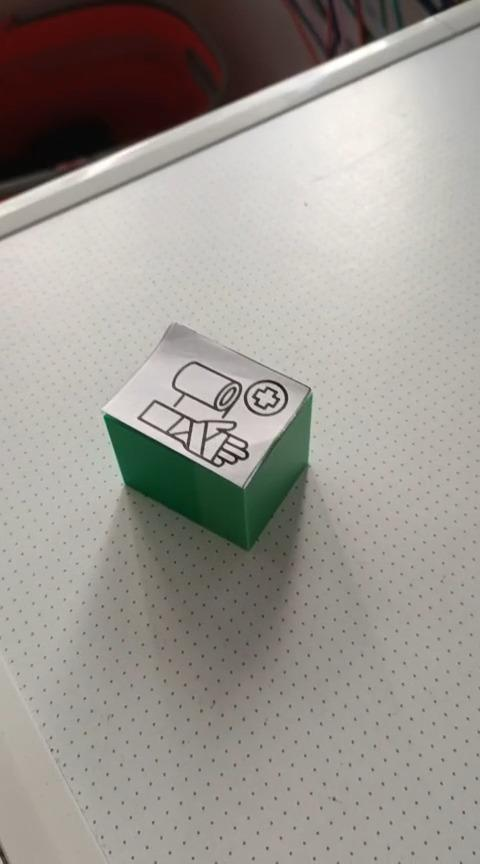Bandages: (105, 321, 314, 551)
